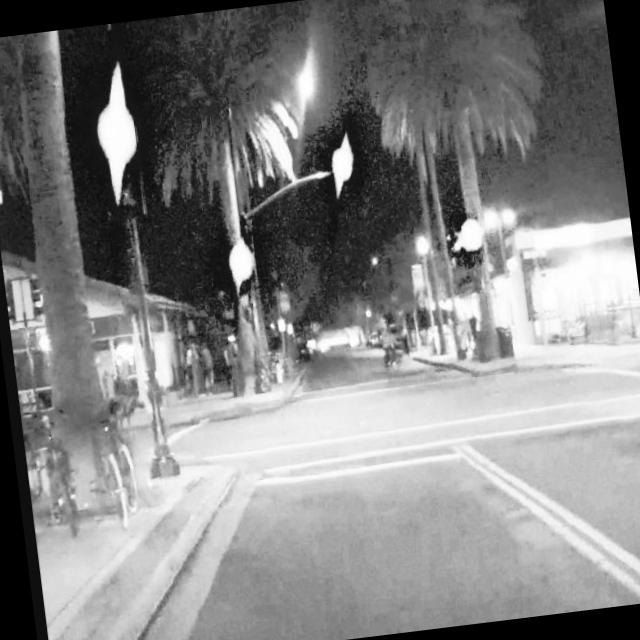Light: (107, 116, 126, 158), (335, 151, 349, 179), (234, 248, 247, 276), (465, 220, 478, 248), (36, 333, 48, 353)
Tree: (0, 27, 138, 522)
